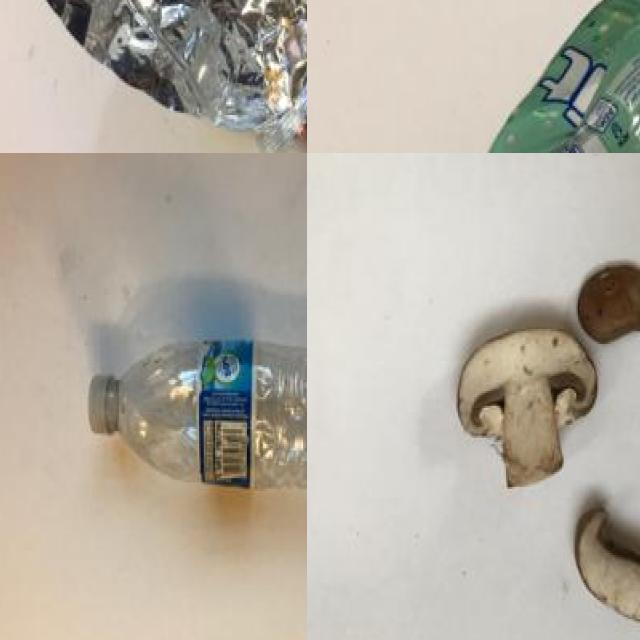compost: (458, 239, 640, 640)
plastic: (87, 320, 307, 518)
trash: (4, 0, 307, 152), (412, 0, 640, 153)
